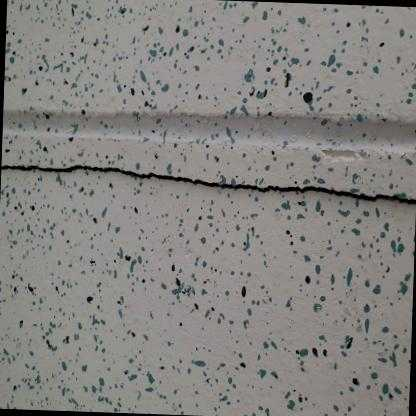crack: (1, 163, 416, 207)
